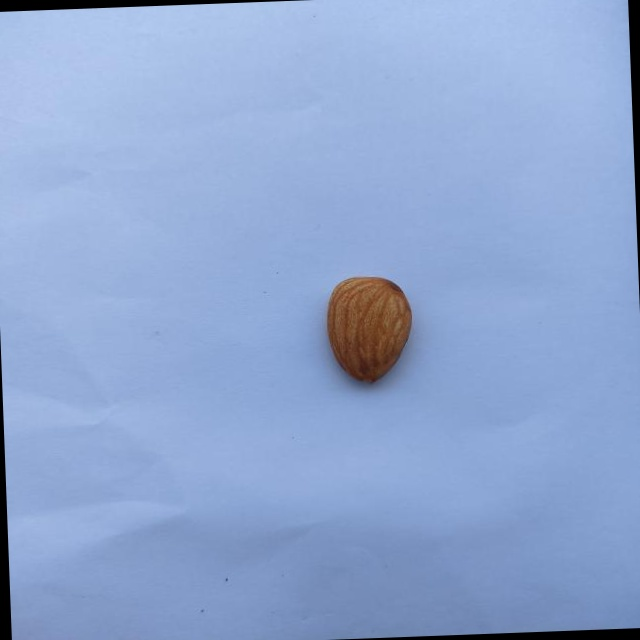grade1: (315, 268, 421, 393)
